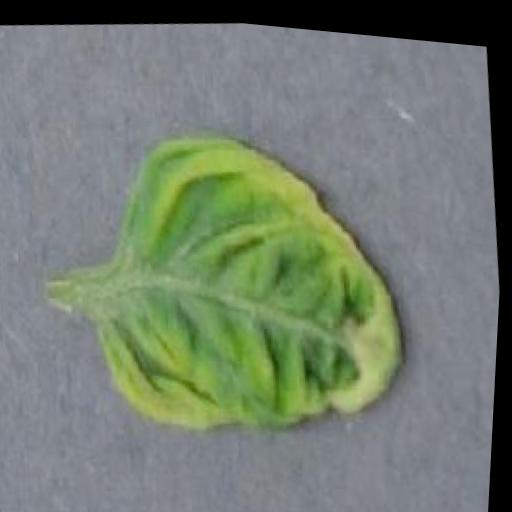Yellow Leaf Curl Virus: (75, 103, 419, 451)
